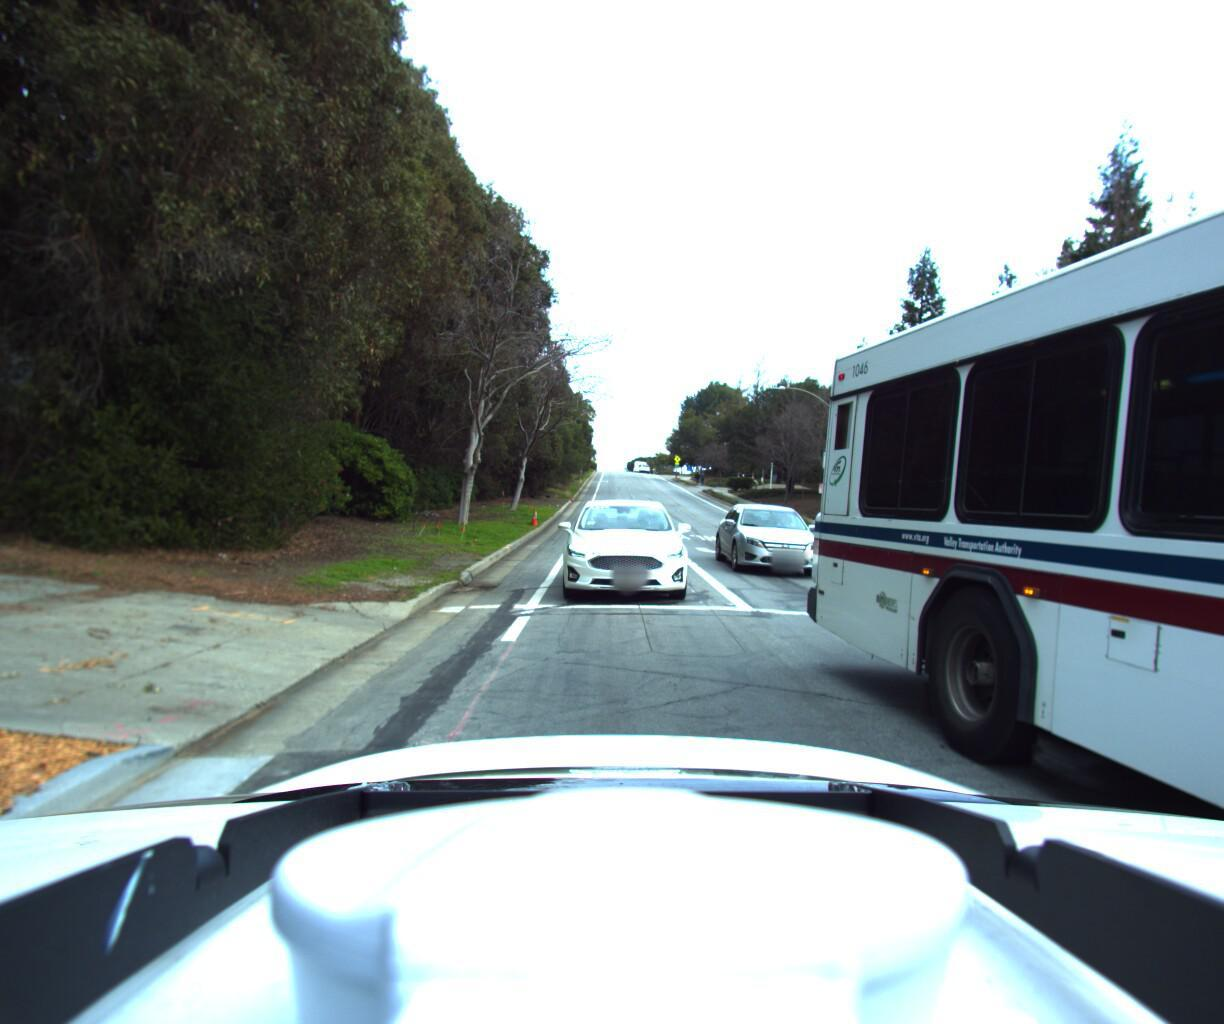car: (545, 485, 703, 614), (707, 499, 844, 585)
